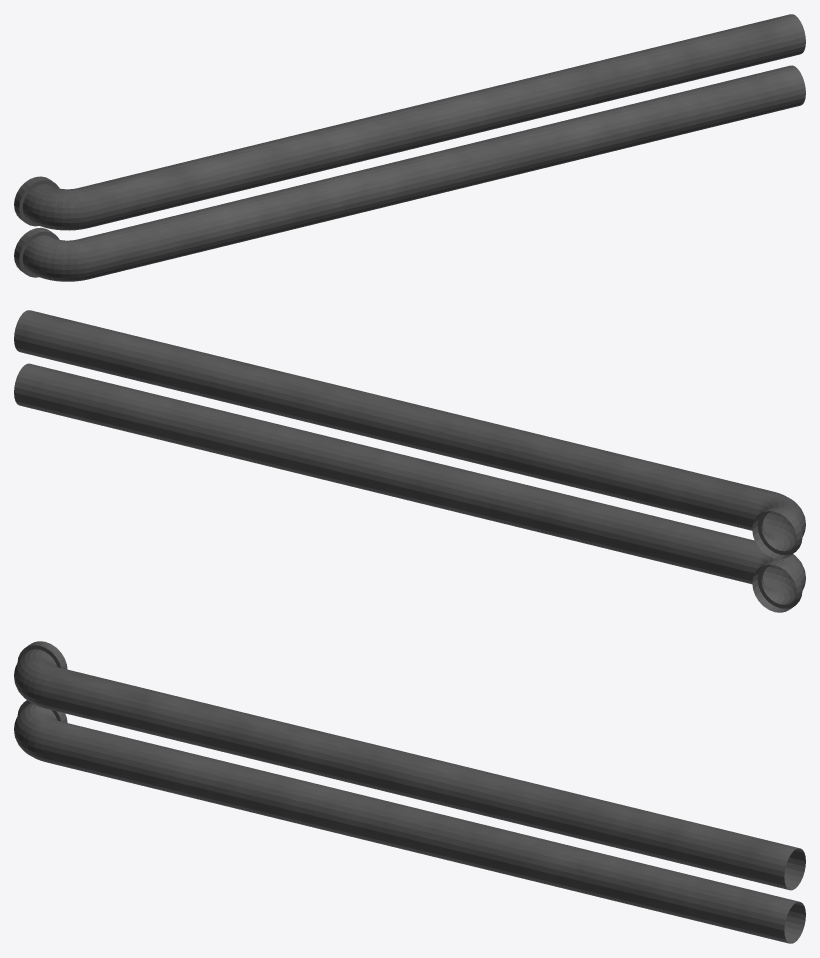
File: rurysciennezagiete.obj
The picture shows the model from 3 angles, top to bottom: view 1: azimuth 30°, elevation 25°; view 2: azimuth 150°, elevation 25°; view 3: azimuth 330°, elevation 25°; orthographic projection. The views are drawn at different scales.
Visible parts, largest first — view 1: rurki.NR1_Cylinder.006; view 2: rurki.NR1_Cylinder.006; view 3: rurki.NR1_Cylinder.006.
Part boxes in pixels (x1,y1,x2,y2): rurki.NR1_Cylinder.006: [14, 14, 805, 281]; rurki.NR1_Cylinder.006: [14, 310, 805, 612]; rurki.NR1_Cylinder.006: [14, 641, 805, 943].
Size of the model in its own units: 8.49 by 1.03 by 0.6.
1 material, 1 textured.
